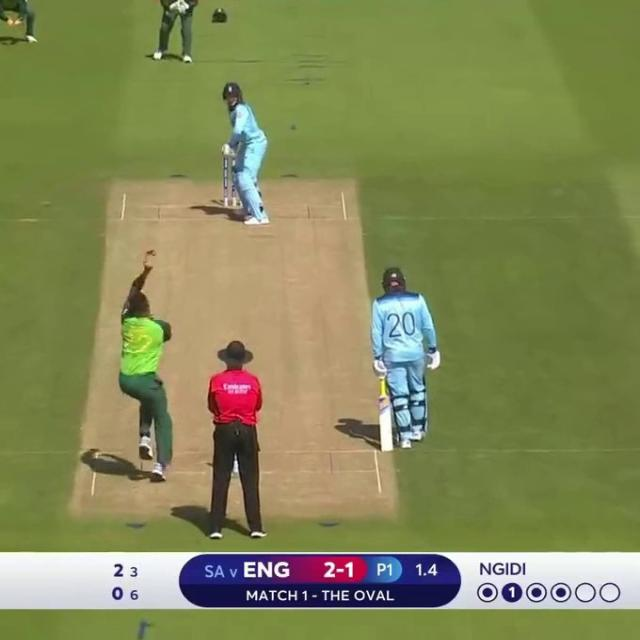bat: (375, 397, 398, 457), (216, 142, 238, 160)
toe: (379, 448, 398, 453)
